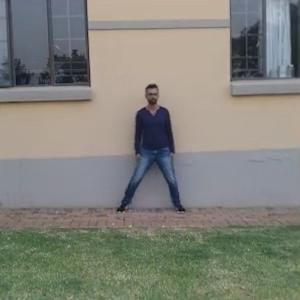follow: (134, 81, 174, 217)
